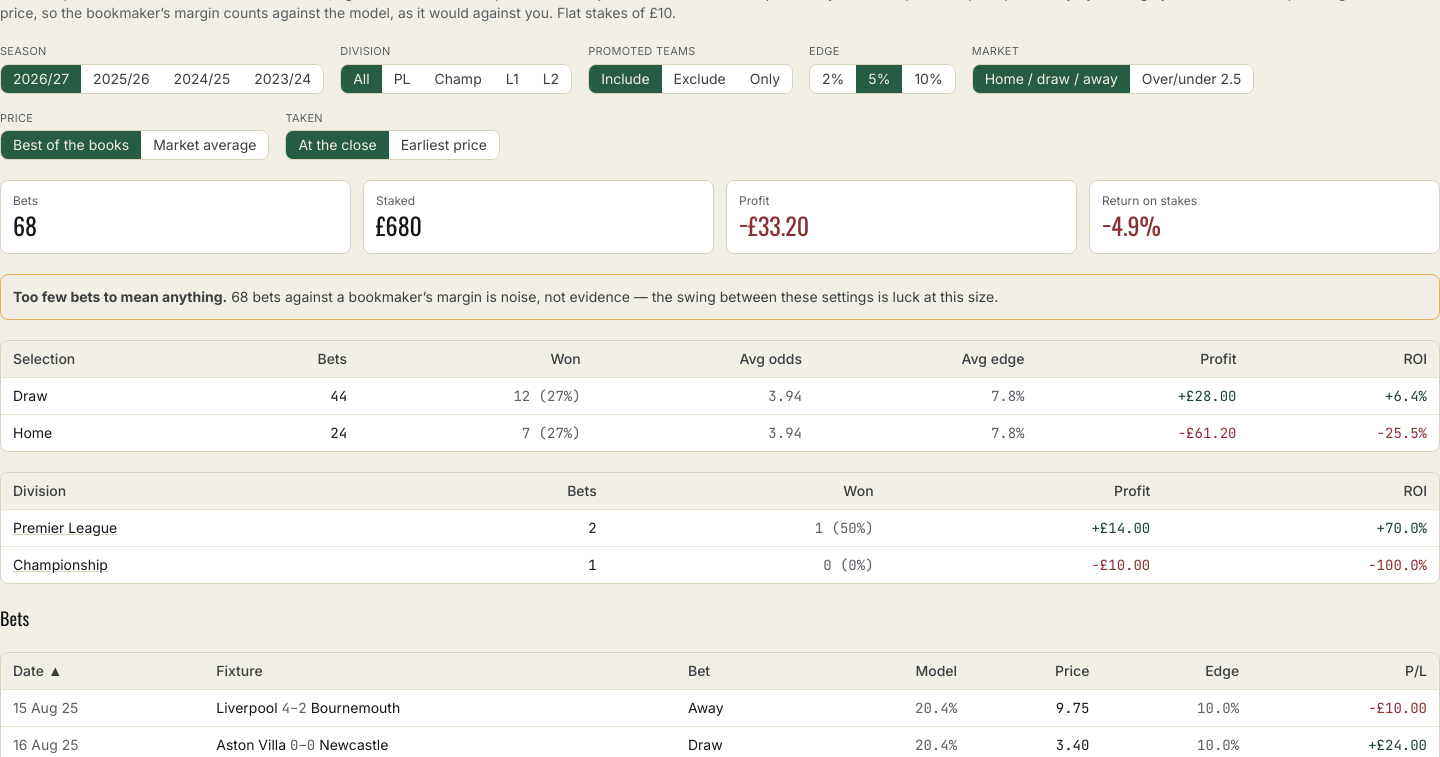
Model returns page › tapping a bet shows every price on file, named, with the fit it came from
The width and height of the screenshot is (1440, 757).
Click the text "9.75" at (1073, 708), box [969,690,1101,726]
(page scrolled)
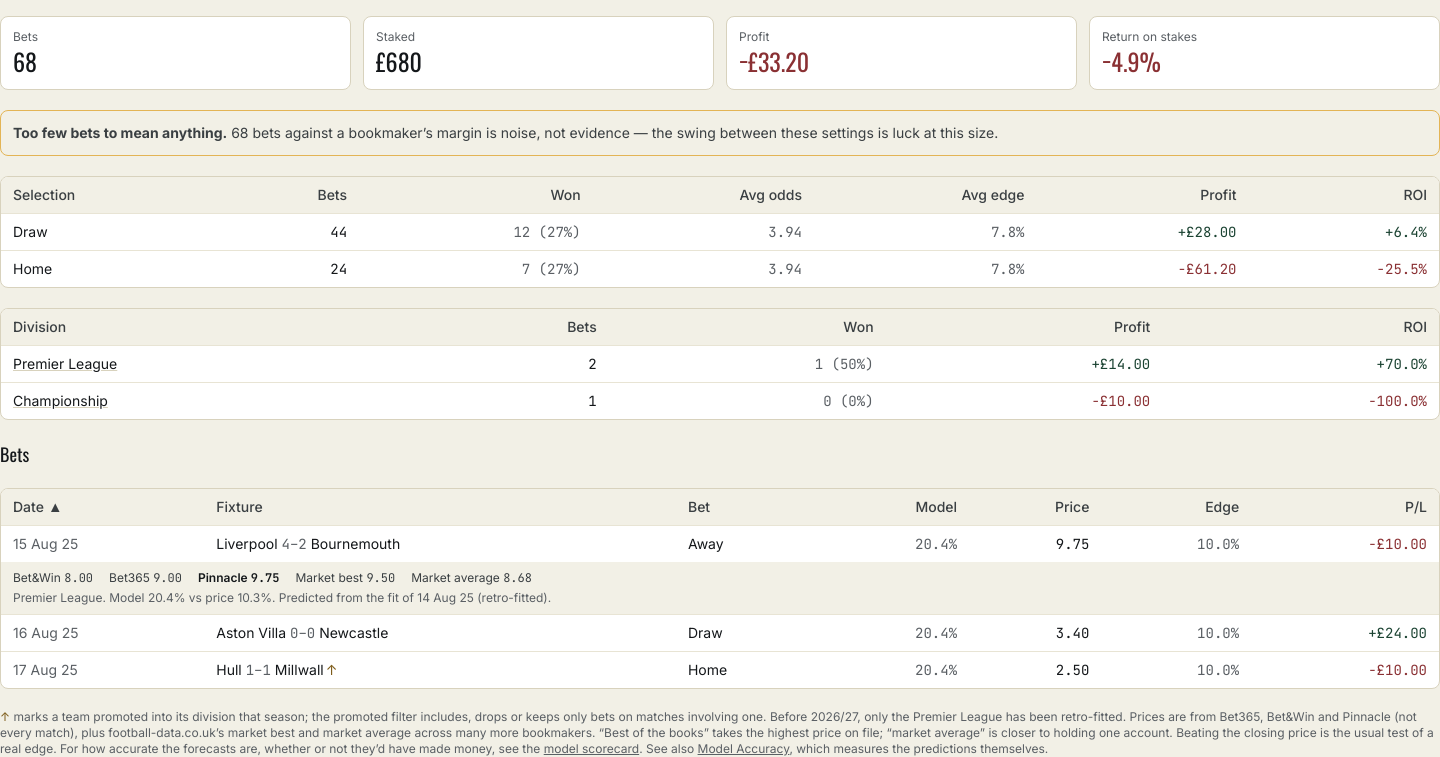
Now the text "Pinnacle 9.75" is shown, box [198,570,280,586]
Now the text "Market best 9.50" is shown, box [296,570,395,586]
Now the text "Market average 8.68" is shown, box [411,570,532,586]
